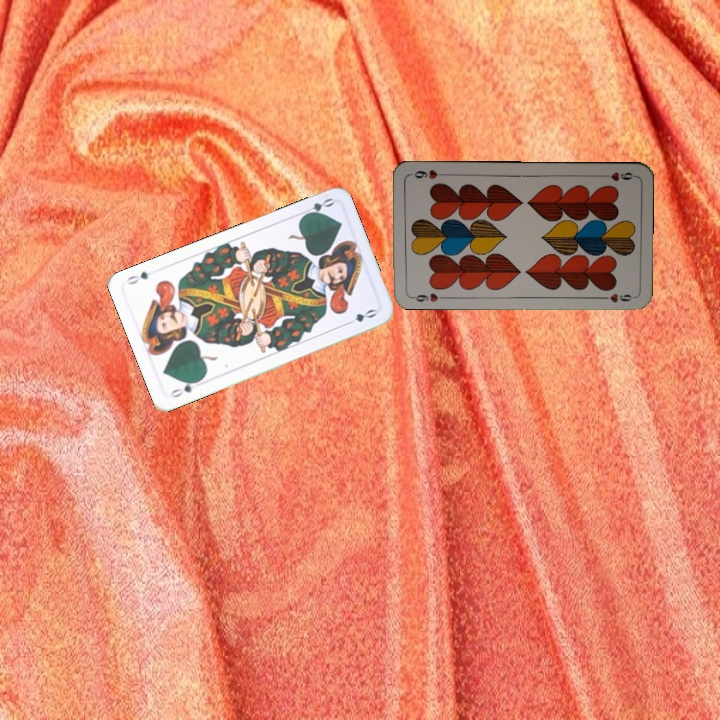GO: (297, 194, 336, 220), (165, 376, 203, 400)
H9: (596, 168, 637, 184), (407, 289, 448, 305)
